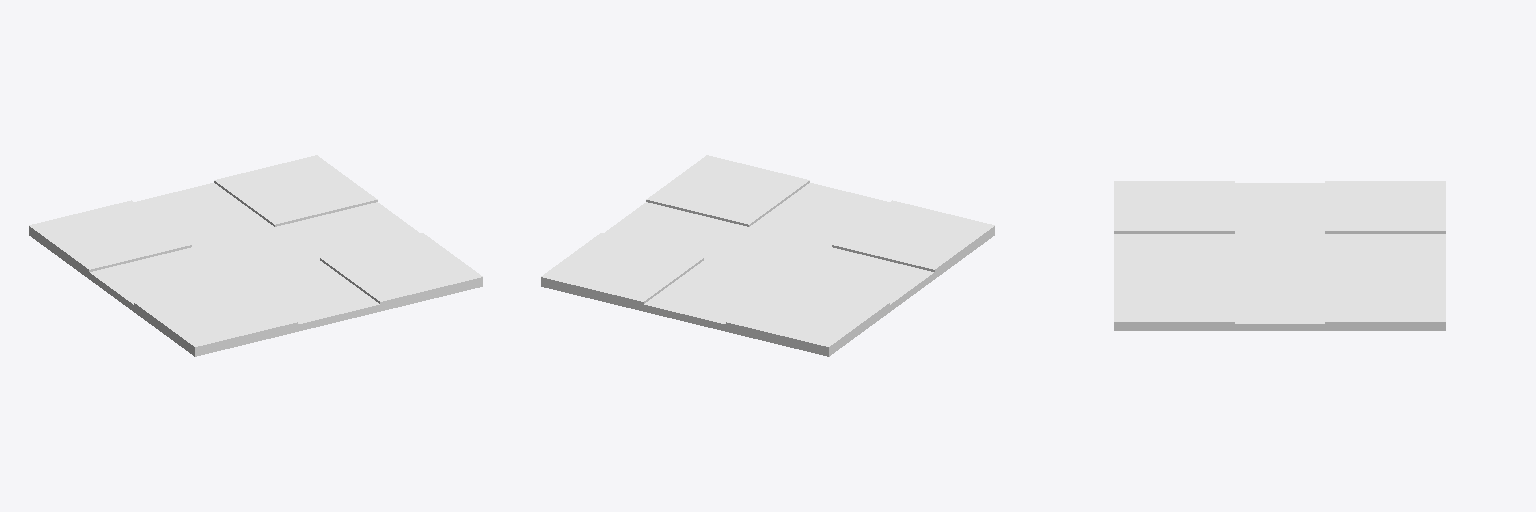
The model's file is road-9-1-roads.obj.
3 views of the same model, side by side, from view 1: azimuth 30°, elevation 25°; view 2: azimuth 150°, elevation 25°; view 3: azimuth 270°, elevation 25° (orthographic).
Visible parts, largest first — view 1: roads; view 2: roads; view 3: roads.
Part boxes in pixels (x1,y1,x2,y2): roads: (29, 155, 482, 356); roads: (541, 155, 994, 356); roads: (1114, 181, 1445, 330).
Size of the model in its own units: 12.6 by 0.4 by 12.6.